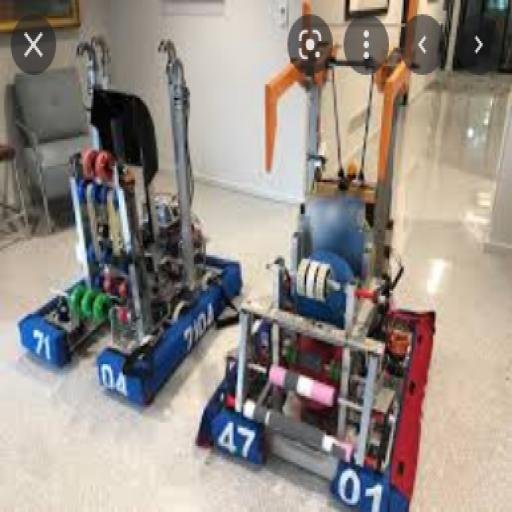robot: (194, 27, 433, 512), (20, 32, 242, 400)
